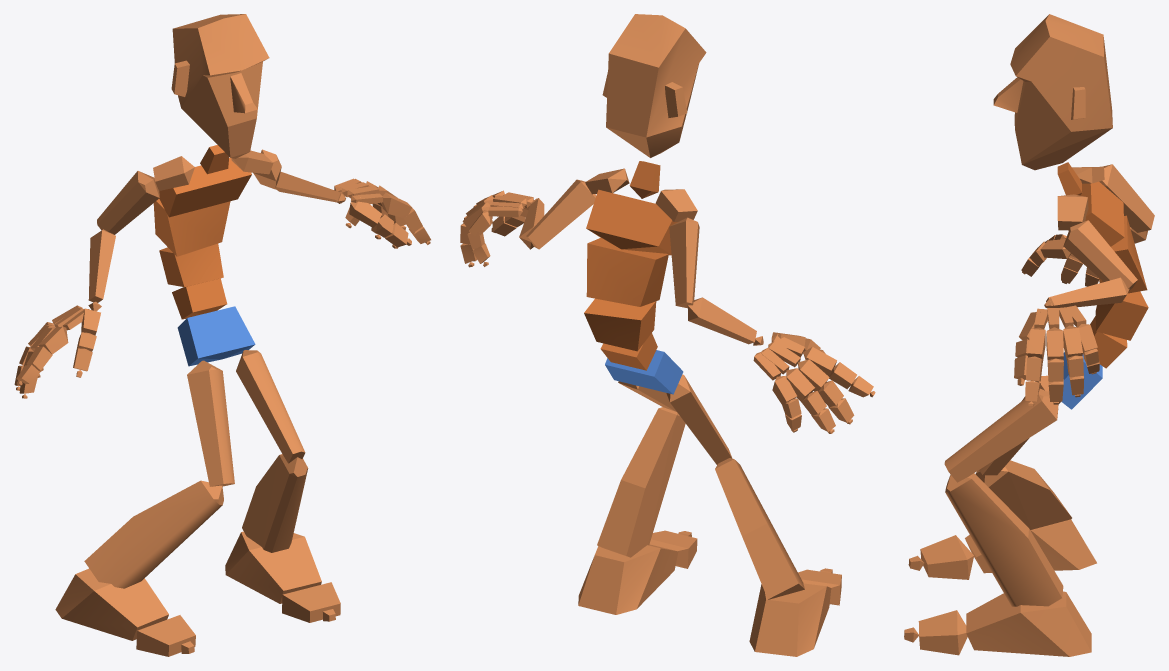
File: prueba272.obj
3 renders of one model, left to right at view 1: azimuth 30°, elevation 25°; view 2: azimuth 150°, elevation 25°; view 3: azimuth 270°, elevation 25°, orthographic. The views are drawn at different scales.
Visible parts, largest first — view 1: BOPED_Head, BOPED_R_leg, BOPED_R_foot, BOPED_R_foot01, BOPED_L_leg, BOPED_R_legup, Bone01, BOPED_L_legup, Bone04, Bone05, BOPED_R_arm_upper, Bone03 (+8 smaller); view 2: BOPED_Head, BOPED_L_leg, BOPED_R_leg, BOPED_R_foot01, BOPED_R_foot, Bone04, Bone05, Bone03, BOPED_R_arm_upper, BOPED_R_legup, BOPED_L_arm_upper, Bone01 (+7 smaller); view 3: BOPED_Head, BOPED_L_leg, BOPED_R_foot01, BOPED_L_legup, BOPED_R_leg, BOPED_R_foot, BOPED_L_arm_upper, Bone05, BOPED_R_foot_toe01, Bone03, BOPED_R_foot_toe04, BOPED_R_arm_upper (+15 smaller).
Part boxes in pixels (x1,y1,x2,y2): BOPED_Head: (171, 14, 269, 158); BOPED_R_leg: (84, 480, 223, 588); BOPED_R_foot: (55, 568, 168, 640); BOPED_R_foot01: (225, 531, 321, 603); BOPED_L_leg: (242, 454, 308, 552); BOPED_R_legup: (187, 360, 234, 486); Bone01: (177, 306, 255, 366); BOPED_L_legup: (236, 350, 305, 463); Bone04: (153, 199, 230, 256); Bone05: (159, 157, 251, 217); BOPED_R_arm_upper: (97, 171, 159, 234); Bone03: (159, 243, 223, 287); BOPED_Head: (602, 14, 706, 157); BOPED_L_leg: (597, 407, 685, 557); BOPED_R_leg: (715, 458, 804, 599); BOPED_R_foot01: (578, 544, 678, 614); BOPED_R_foot: (749, 583, 831, 656); Bone04: (586, 238, 668, 306); Bone05: (586, 189, 677, 255); Bone03: (584, 298, 656, 351); BOPED_R_arm_upper: (669, 217, 699, 308); BOPED_R_legup: (666, 374, 731, 464); BOPED_L_arm_upper: (526, 179, 595, 249); Bone01: (605, 350, 683, 394); BOPED_Head: (993, 14, 1112, 170); BOPED_L_leg: (945, 473, 1063, 606); BOPED_R_foot01: (966, 591, 1091, 656); BOPED_L_legup: (944, 388, 1058, 482); BOPED_R_leg: (975, 460, 1071, 529); BOPED_R_foot: (965, 519, 1096, 573); BOPED_L_arm_upper: (1063, 220, 1137, 290); Bone05: (1081, 181, 1124, 246); BOPED_R_foot_toe01: (920, 535, 973, 579); Bone03: (1095, 291, 1148, 340); BOPED_R_foot_toe04: (918, 610, 967, 655); BOPED_R_arm_upper: (1099, 164, 1154, 232).
Size of the model in its own units: 130 by 175 by 66.
